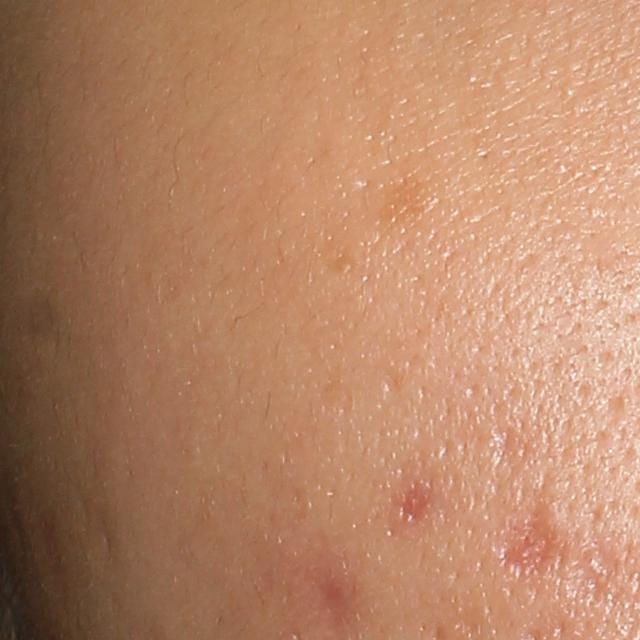atrophic_scar: (496, 474, 558, 581), (572, 533, 632, 611), (484, 400, 522, 489), (394, 478, 431, 529)
melasma: (369, 172, 435, 242)
